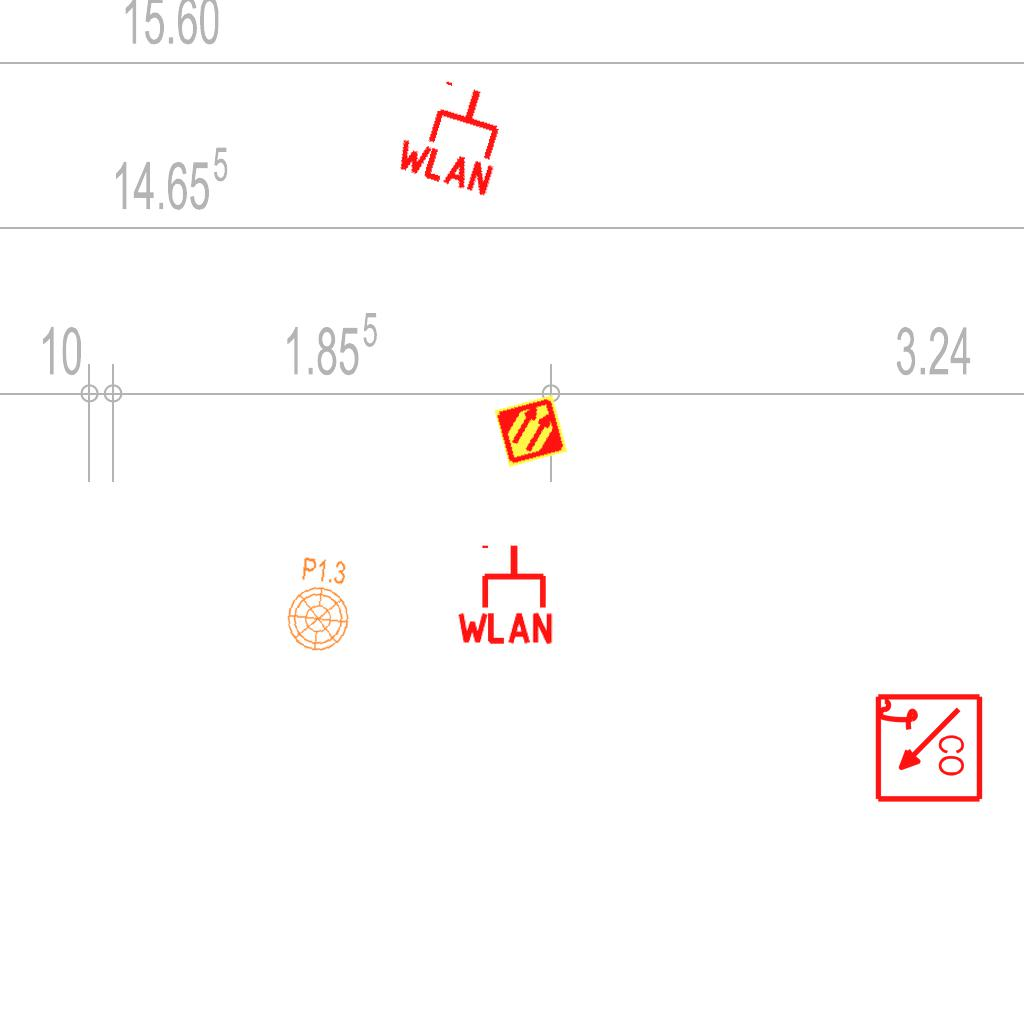ASR_Ansaugrauchmelder: (493, 393, 569, 469)
Aufbaurundleuchte_LED_Treppenhaus: (282, 546, 364, 657)
ROA_Rauchmelder_optisch_mit_Signalgeber_(Sockelsirene): (871, 692, 984, 805)
WLAN: (389, 68, 520, 200), (453, 541, 557, 646)
